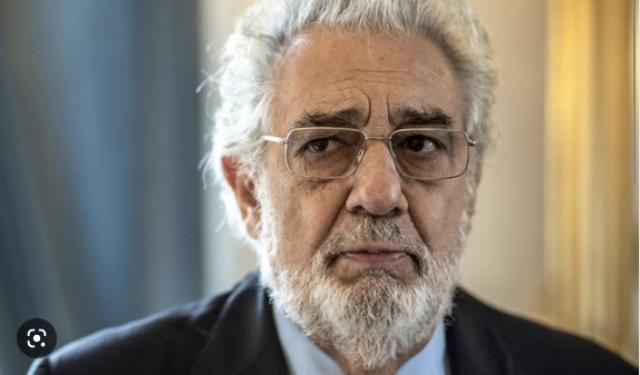forehead: (358, 63, 402, 79), (332, 70, 352, 94)
frown_line: (359, 92, 376, 128), (382, 92, 396, 123)
gummy_smile: (325, 195, 347, 236), (403, 199, 425, 238)
